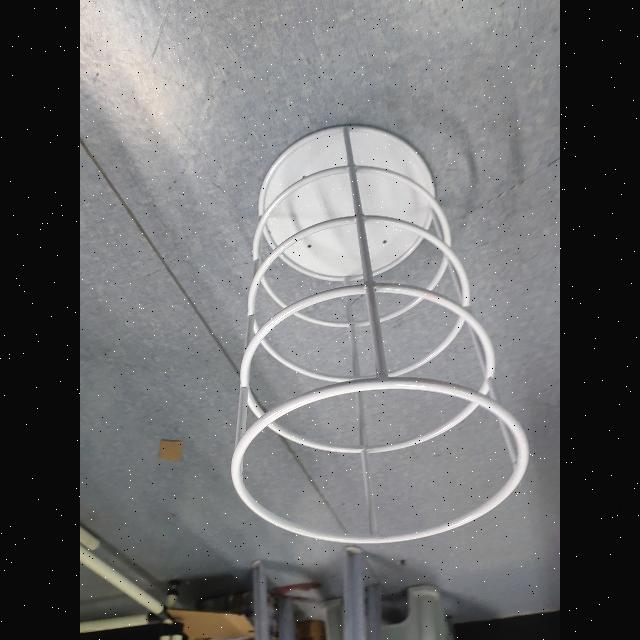S: (230, 118, 534, 550)
